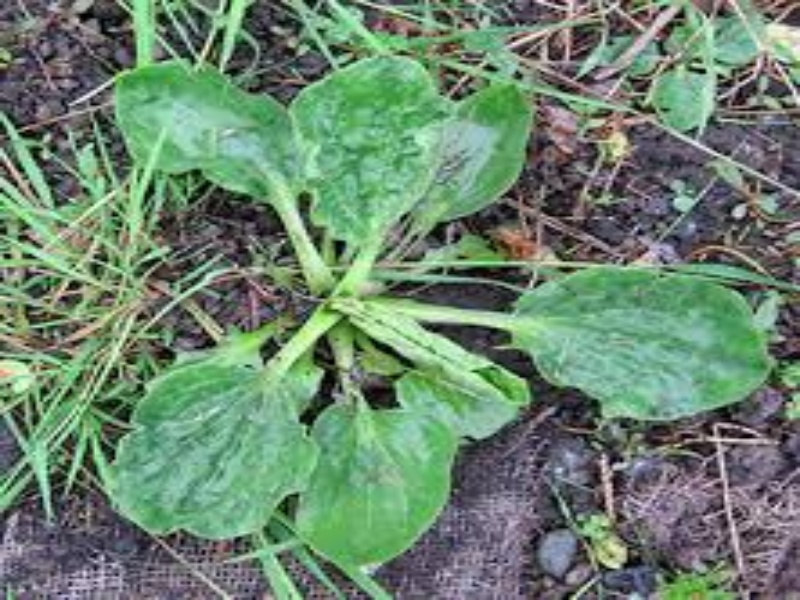weed: (98, 60, 579, 540), (627, 19, 750, 125)
